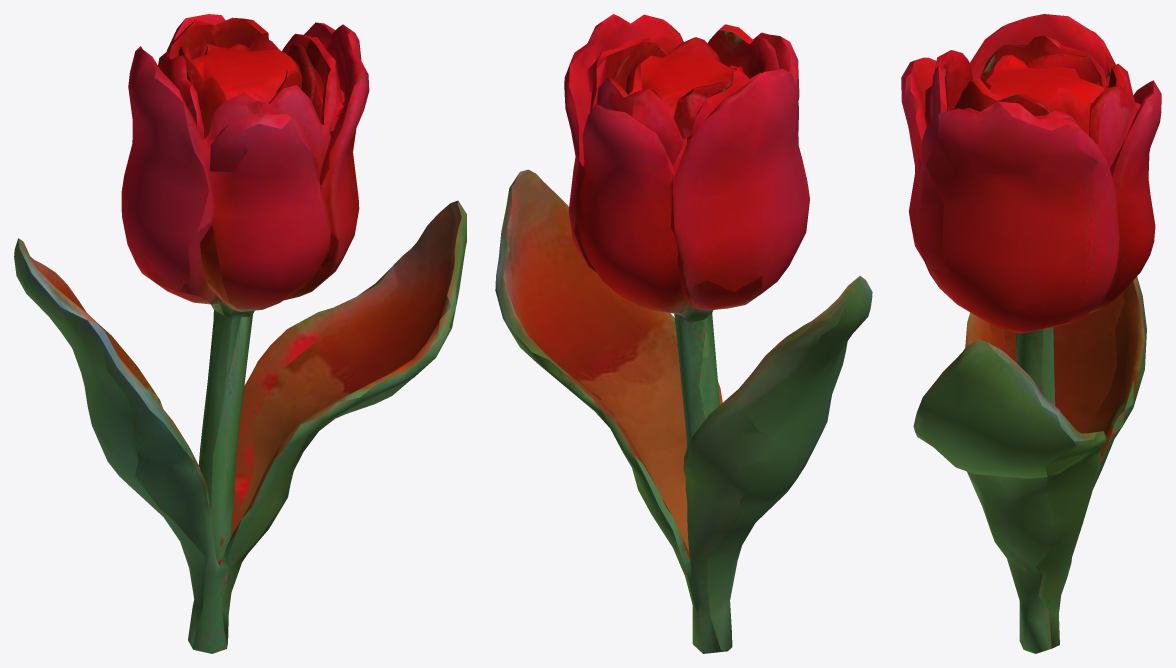
Rendered from tulip.glb.
3 views of the same model, side by side, from view 1: azimuth 30°, elevation 25°; view 2: azimuth 150°, elevation 25°; view 3: azimuth 270°, elevation 25° (orthographic). The views are drawn at different scales.
Visible parts, largest first — view 1: tulip; view 2: tulip; view 3: tulip.
Boxes of the visible parts, x1,y1,x2,y2 form: tulip: (14, 14, 466, 653); tulip: (495, 14, 872, 653); tulip: (901, 14, 1161, 653).
Bounding box in the file's own units: 0.6992 × 1 × 0.3904.
1 material, 1 textured.
